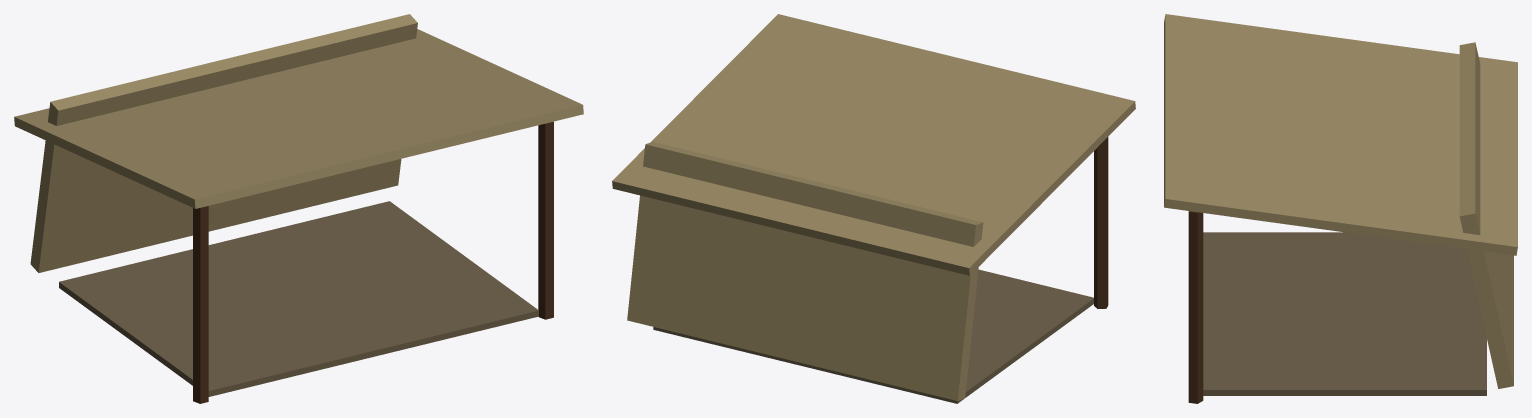
Rendered from river_hut_mat.glb.
3 renders of one model, left to right at view 1: azimuth 30°, elevation 25°; view 2: azimuth 150°, elevation 25°; view 3: azimuth 270°, elevation 25°, orthographic. The views are drawn at different scales.
Parts seen in each view (by area): view 1: river_hut_mat; view 2: river_hut_mat; view 3: river_hut_mat.
Part boxes in pixels (x1,y1,x2,y2): river_hut_mat: (14, 14, 583, 403); river_hut_mat: (612, 14, 1135, 403); river_hut_mat: (1164, 14, 1517, 403).
Size of the model in its own units: 2.7 by 1.44 by 2.18.
